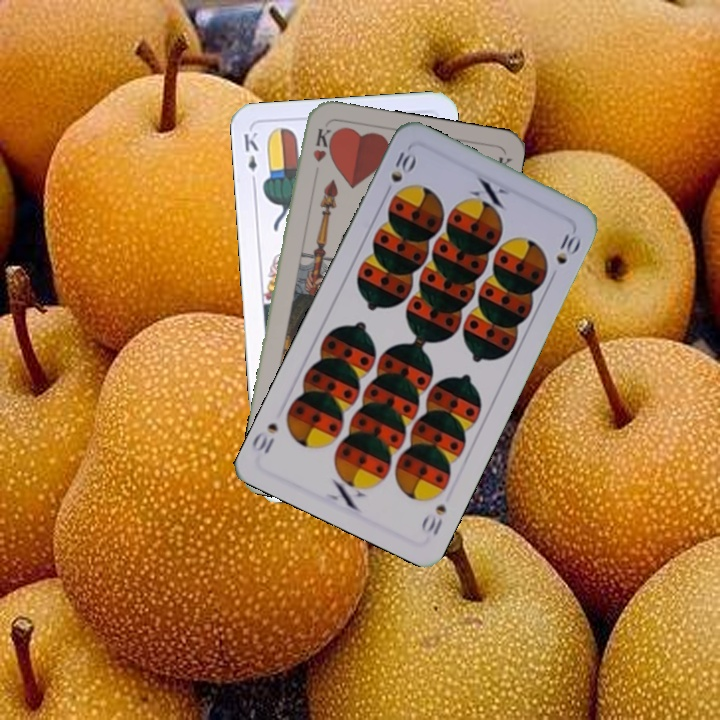EK: (239, 128, 261, 187)
HK: (309, 124, 332, 164)
S10: (380, 147, 419, 199), (417, 500, 449, 538)
